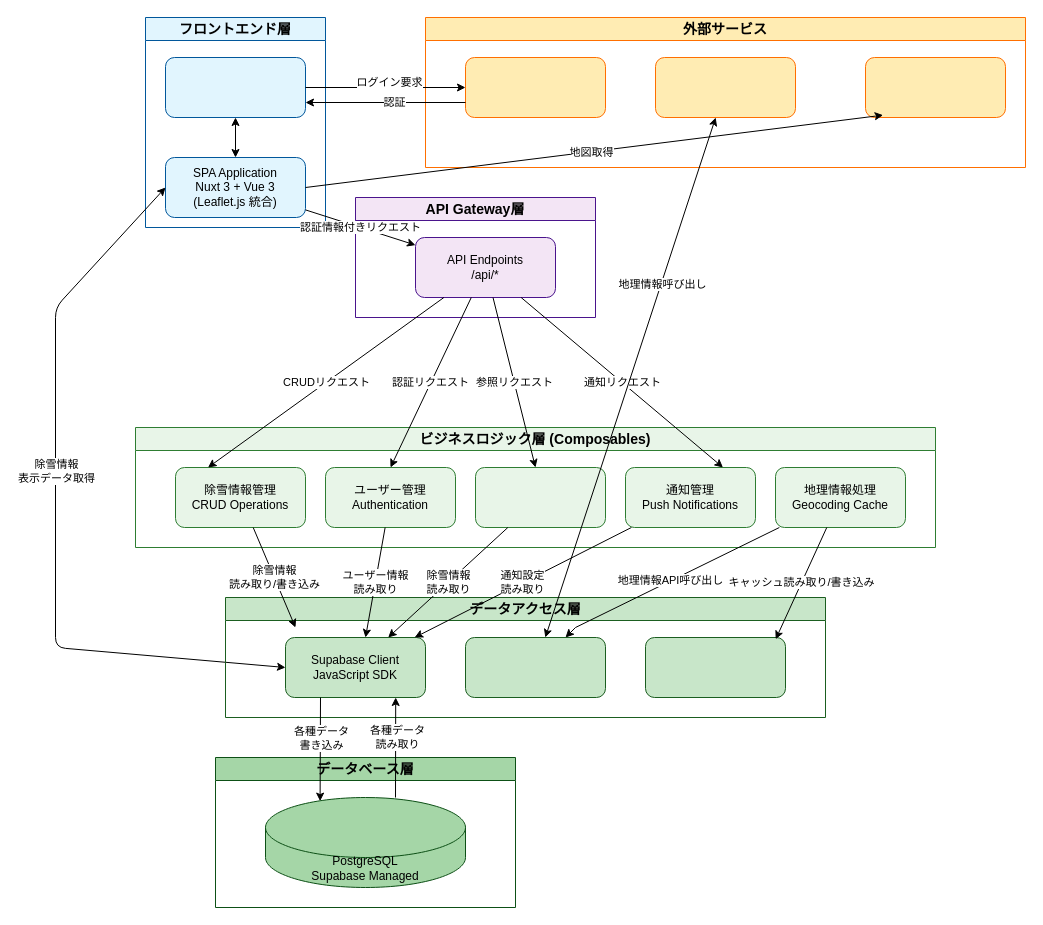
Image size: 1043x925. Some labels were removed from this diagram. Each missing label, with the centre of its shape:
"Supabase Auth" goes at (x=535, y=87).
"キャッシュ層 LocalStorage + Memory" goes at (x=715, y=667).
"地図タイル OpenStreetMap" goes at (x=935, y=87).
"地理情報API Nominatim OSM" goes at (x=725, y=87).
"外部API Client Nominatim Wrapper" goes at (x=535, y=667).
"認証処理 Nuxt Middleware" goes at (x=235, y=87).
"除雪情報参照" goes at (x=540, y=497).
